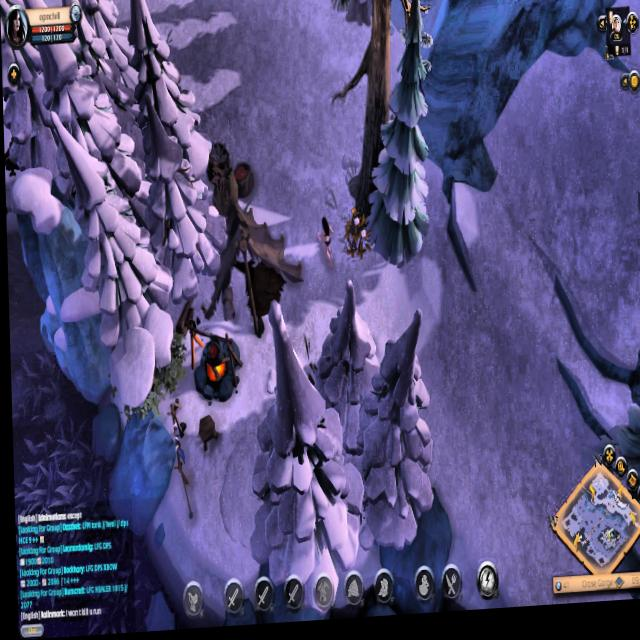cotton: (340, 211, 370, 265)
